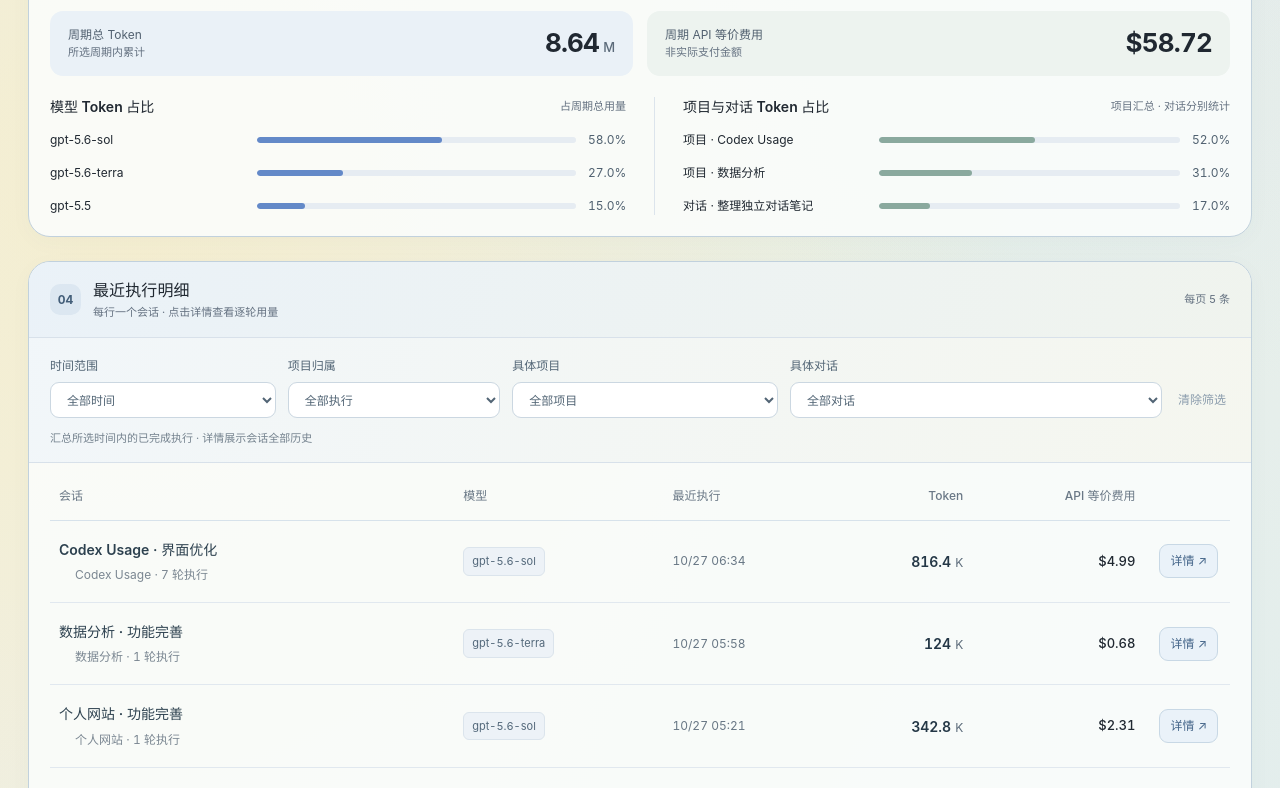
conversation-level usage dashboard › shows an empty filtered state and keeps the project selection
(page scrolled)
Expected: the heading "最近执行明细" is shown, [93,280,190,300]
Select "个人网站" in the dropdown named "筛选最近执行的项目": (645, 400) [512,382,778,418]
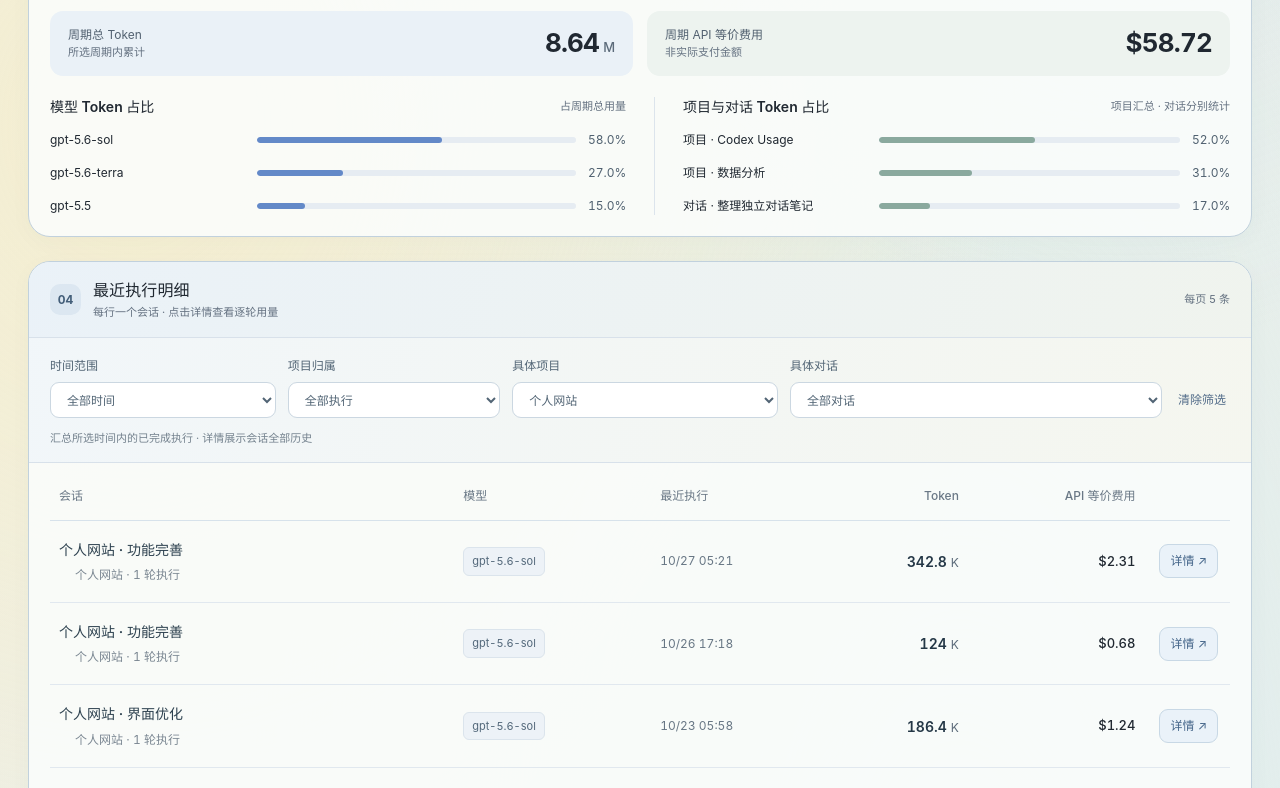
Select "最近 1 小时" in the dropdown named "筛选最近执行的时间范围": (163, 400) [50,382,276,418]
(page scrolled)
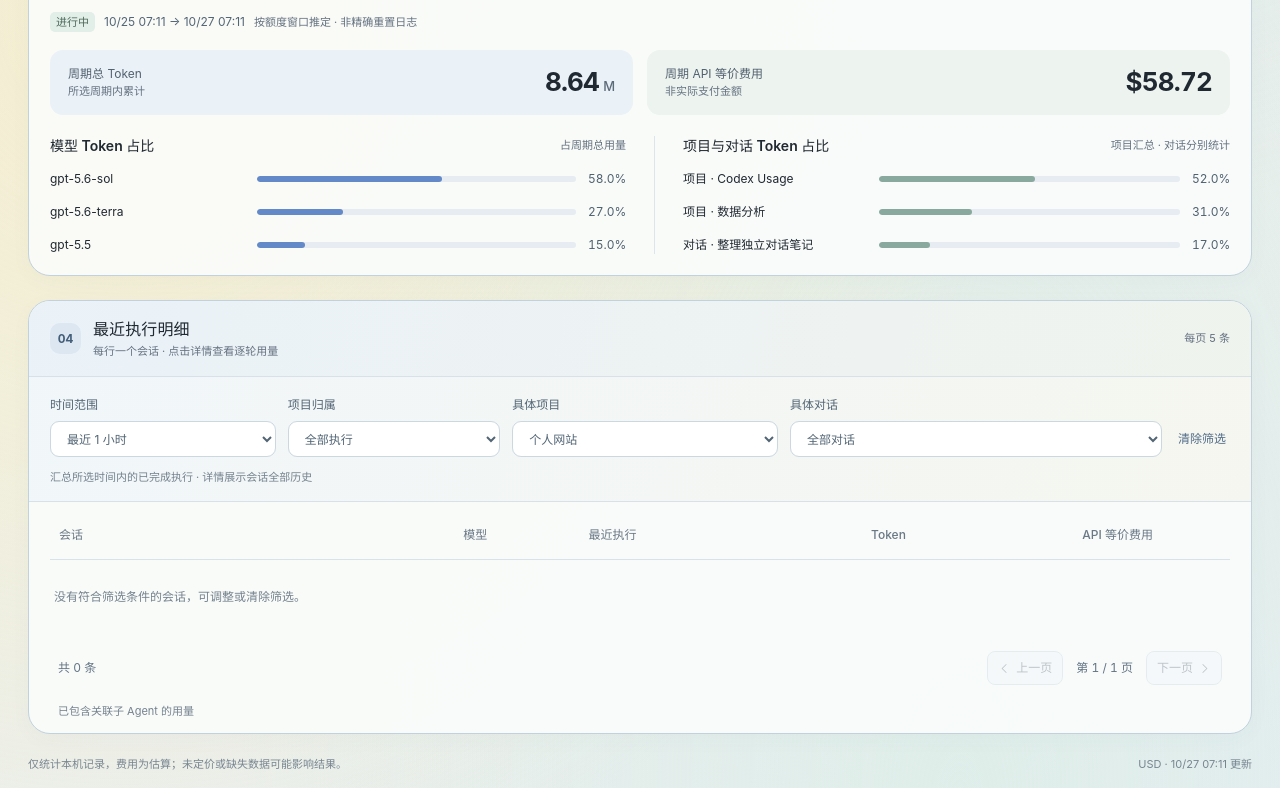
Result: the button with aria-label "下一页会话明细" is disabled at [1146,651,1222,685]
Result: the text "没有符合筛选条件的会话，可调整或清除筛选。" is shown at [54,589,306,604]
